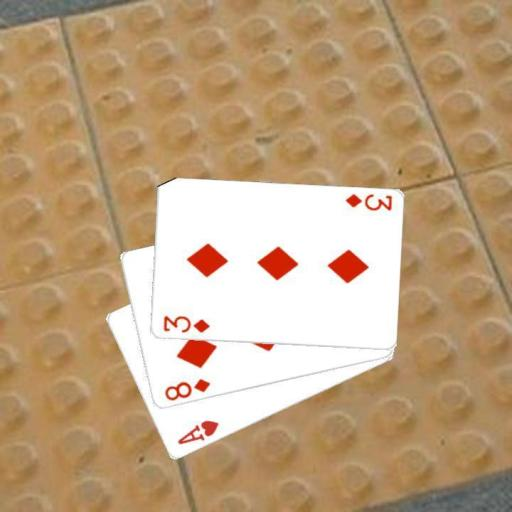card-corner: (161, 376, 212, 402), (174, 418, 220, 446), (160, 312, 211, 335), (342, 190, 394, 212)
